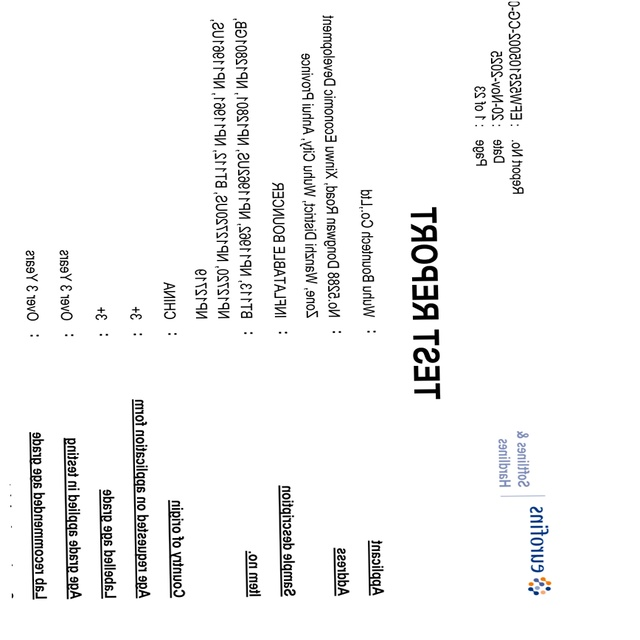eurofins: (522, 503, 562, 603)
